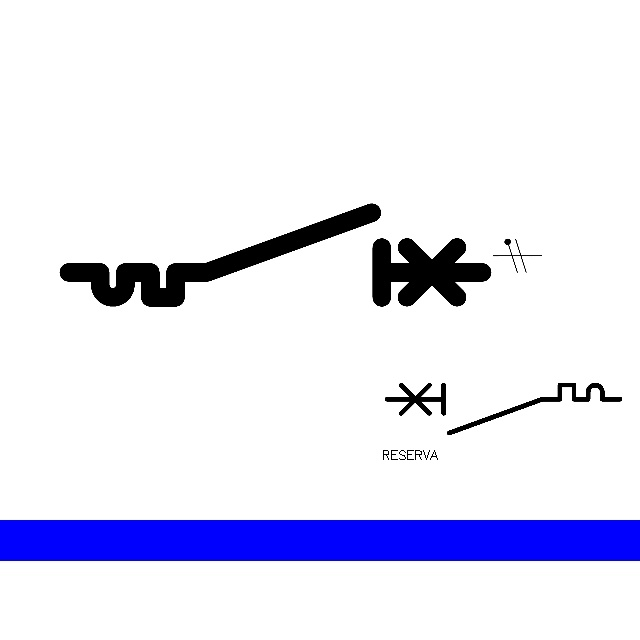interruptor_termomagnetico: (58, 202, 492, 308), (381, 379, 626, 439)
